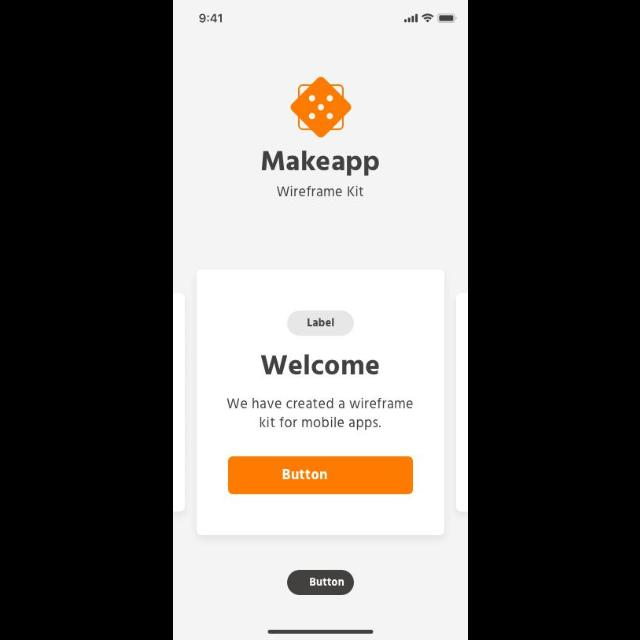image: (290, 76, 352, 140)
text: (224, 397, 413, 431), (260, 151, 380, 177), (260, 354, 380, 376), (276, 186, 366, 197)
textbutton: (228, 456, 412, 494), (286, 310, 354, 336), (287, 570, 355, 594)
uppertaskbar: (198, 13, 456, 24)
